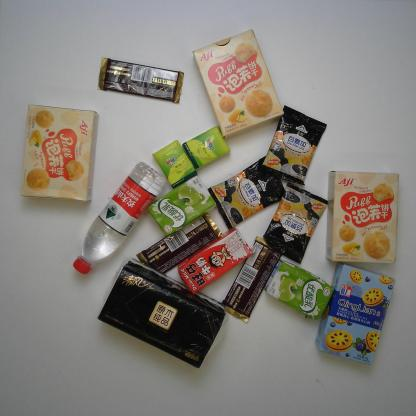Chocolate: (135, 213, 224, 274), (222, 235, 281, 323), (96, 55, 186, 105)
Dessert: (190, 27, 286, 137), (314, 261, 399, 368), (18, 102, 100, 204), (324, 169, 402, 265)
Drink: (71, 160, 167, 276)
Instant Drink: (206, 156, 286, 231), (259, 104, 328, 187), (262, 181, 330, 264)
Milk: (176, 226, 254, 295), (264, 258, 335, 322), (147, 175, 216, 237)
Tissue: (94, 256, 227, 373), (150, 139, 198, 189), (182, 125, 232, 170)
